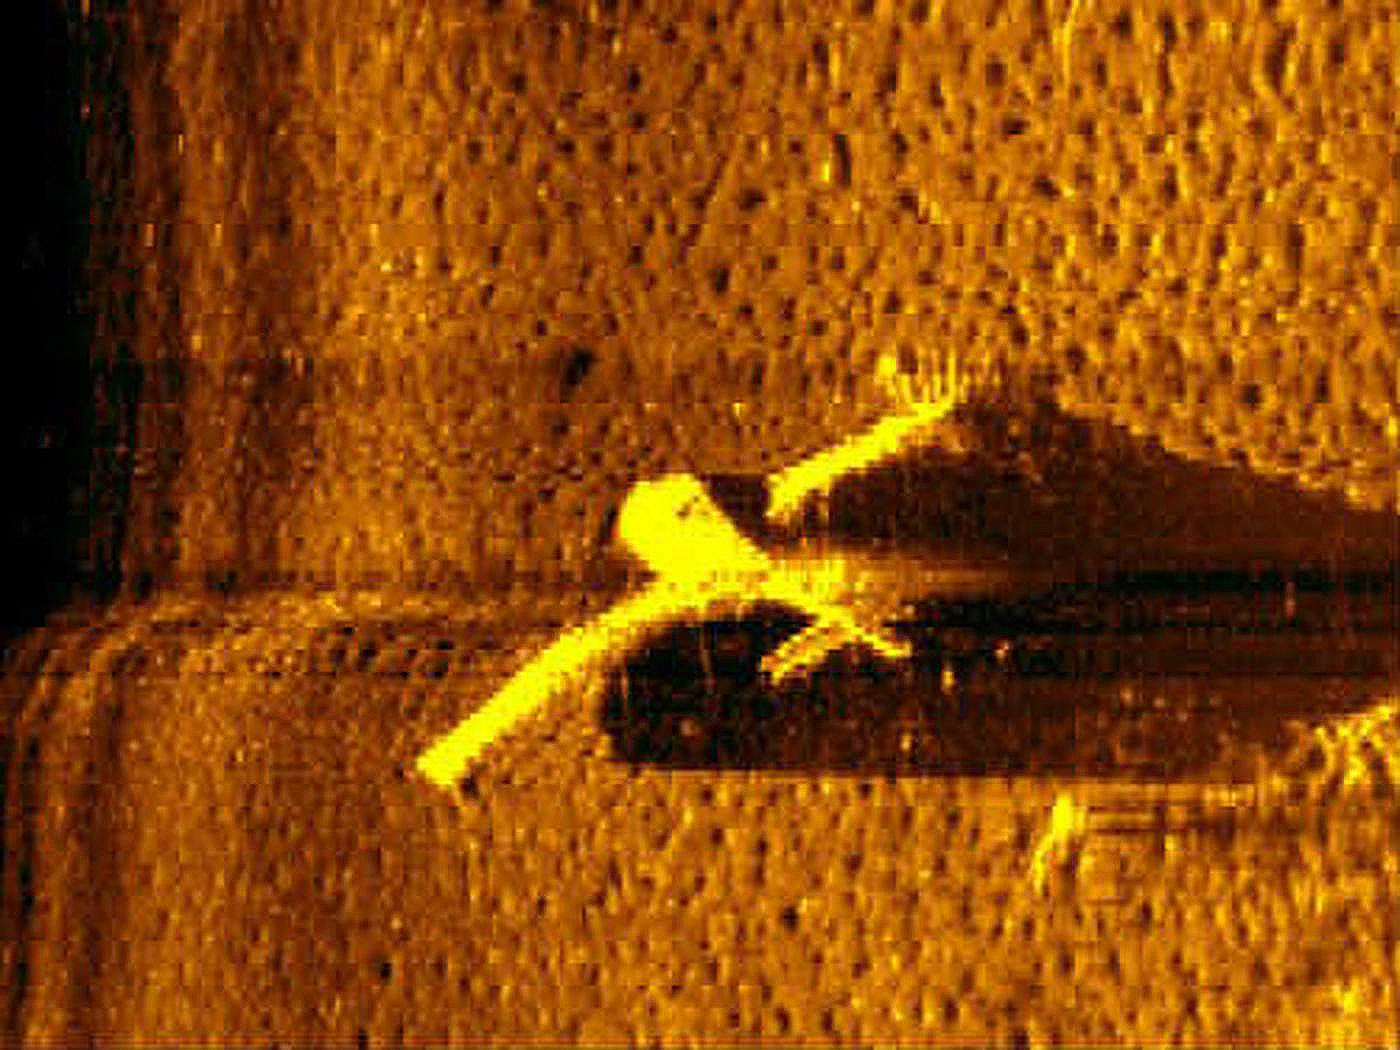plane: (389, 394, 998, 794)
